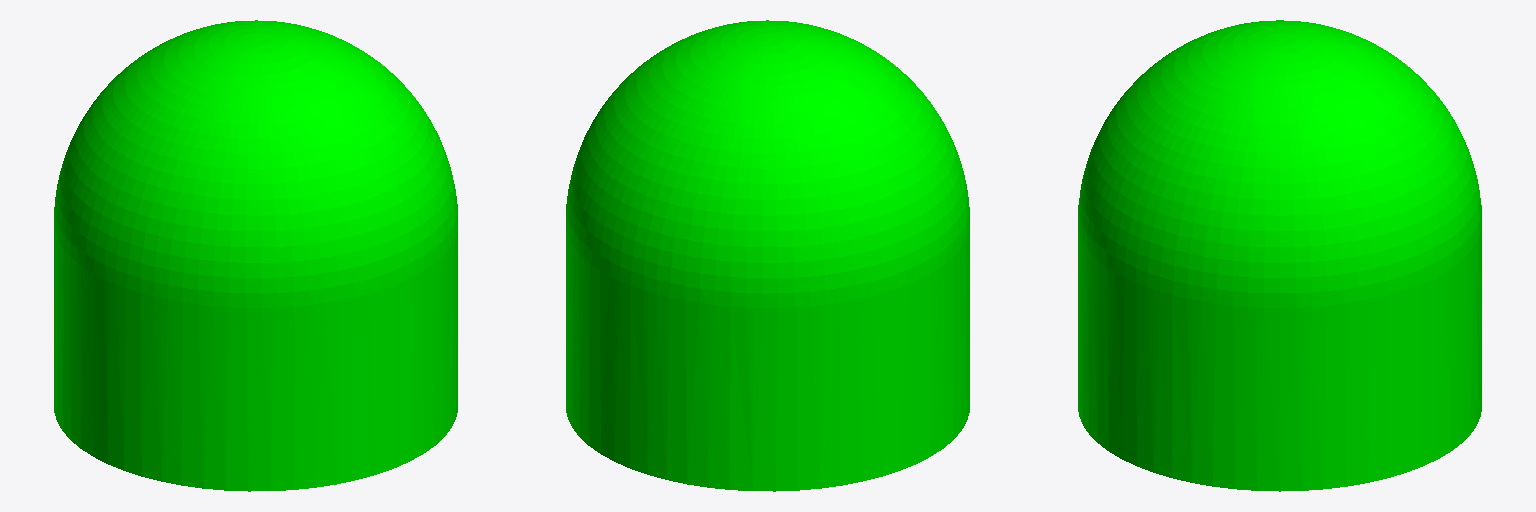
URDF robot description (bump_40_virtual.urdf):
<?xml version="0.0" ?>
<robot name="bump_40_virtual.urdf">
    <link name="baseLink">
        <inertial>
            <origin rpy="0 0 0" xyz="0 0 0"/>
            <mass value="0"/>
            <inertia ixx="1" ixy="0" ixz="0" iyy="1" iyz="0" izz="1"/>
        </inertial>

        <visual>
            <origin rpy="0 0 0" xyz="0 0 0"/>
            <geometry>
                <mesh filename="bump_40.stl"/>
            </geometry>
            <material name="green">
                <color rgba="0 1 0 0.1"/>
            </material>
        </visual>
    </link>
</robot>

--- Facts derived from the render (not from the file) ---
The picture shows the robot from 3 angles, left to right: view 1: azimuth 30°, elevation 25°; view 2: azimuth 150°, elevation 25°; view 3: azimuth 270°, elevation 25°; orthographic projection.
Model bump_40_virtual.urdf with 1 links and 0 joints (none), rooted at baseLink, posed all joints at 0.
Links seen in each view (by area): view 1: baseLink; view 2: baseLink; view 3: baseLink.
Boxes of the visible links, bbox=[...] form: baseLink: bbox=[54, 20, 457, 491]; baseLink: bbox=[566, 20, 969, 491]; baseLink: bbox=[1078, 20, 1481, 491].
Size in the robot's own frame: 0.04 by 0.04 by 0.04 metres.
Meshes: 1 distinct files referenced, 1 mesh visuals loaded (1 binary STL).